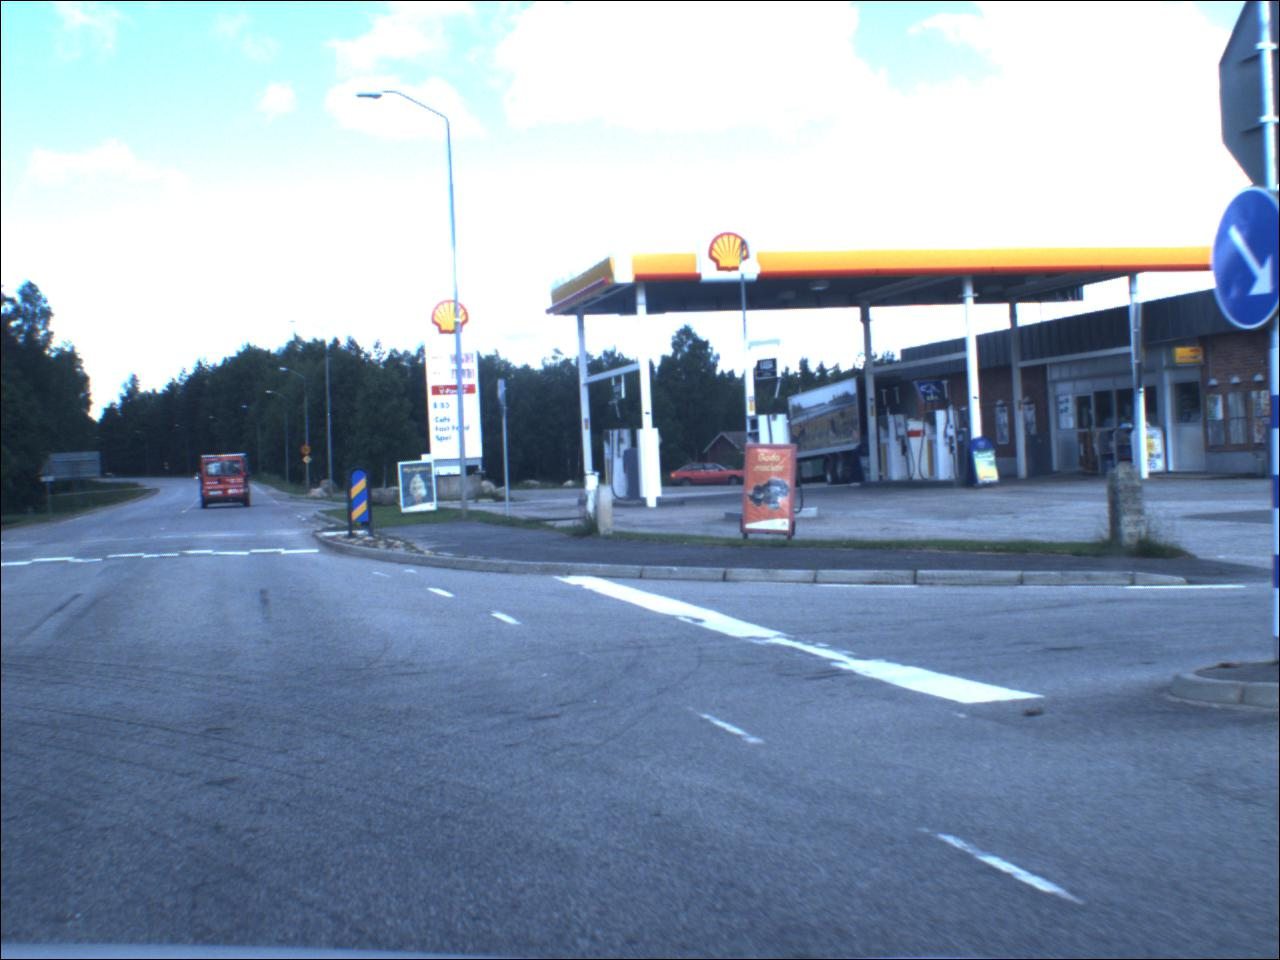50_SIGN: (302, 446, 314, 458)
PASS_RIGHT_SIDE: (1198, 185, 1278, 326)
PRIORITY_ROAD: (304, 458, 315, 467)
